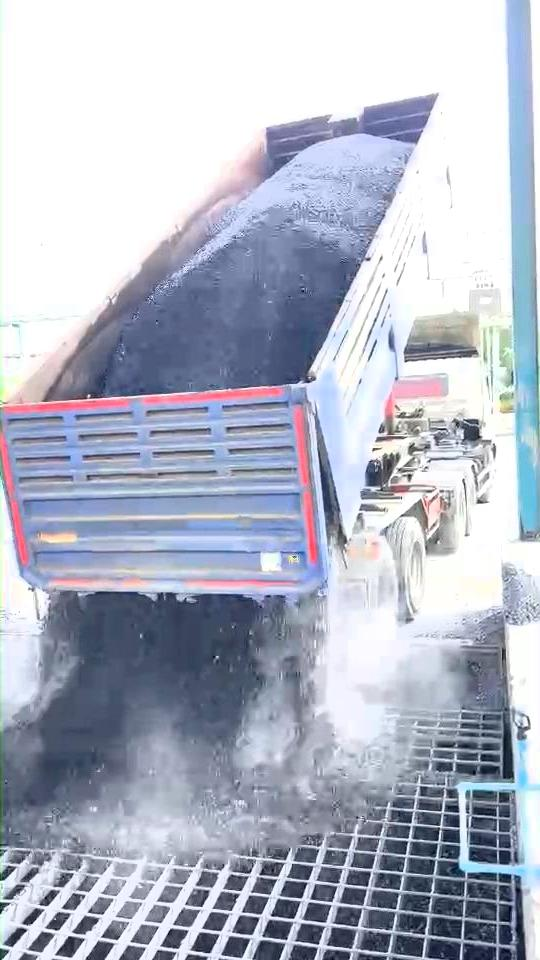gravel: (4, 594, 358, 851), (103, 135, 413, 394), (503, 562, 540, 625)
